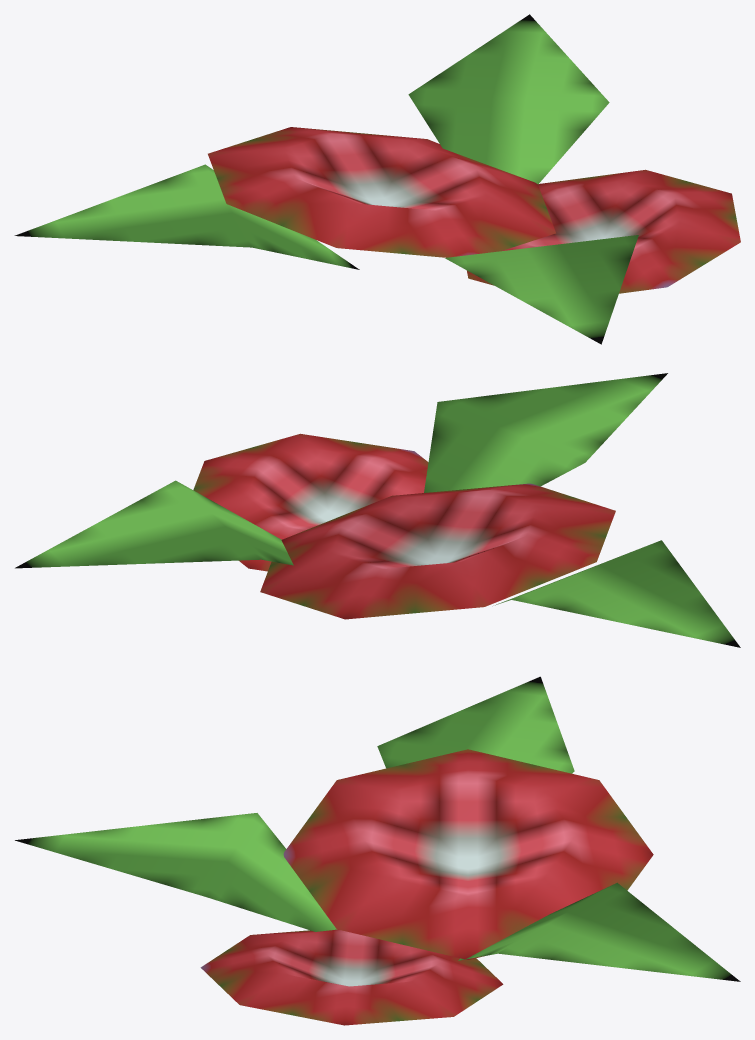
The model's file is deco_flowerPair_red.FBX.
The picture shows the model from 3 angles, top to bottom: view 1: azimuth 30°, elevation 25°; view 2: azimuth 150°, elevation 25°; view 3: azimuth 270°, elevation 25°; orthographic projection. The views are drawn at different scales.
Visible parts, largest first — view 1: deco_flowerPair_red; view 2: deco_flowerPair_red; view 3: deco_flowerPair_red.
Boxes of the visible parts, x1,y1,x2,y2 form: deco_flowerPair_red: (14, 14, 740, 344); deco_flowerPair_red: (15, 373, 740, 647); deco_flowerPair_red: (15, 676, 740, 1025).
Bounding box in the file's own units: 0.928 × 0.1321 × 0.9215.
Materials: 1 (1 with a texture image).
